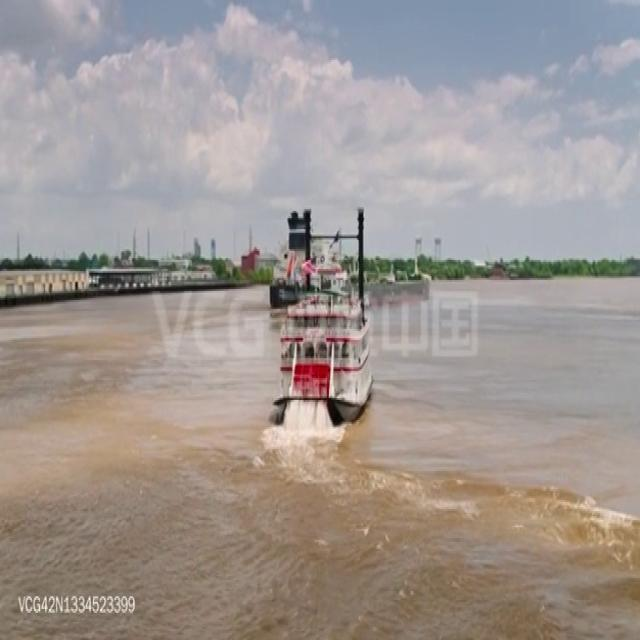cargoship: (268, 211, 429, 305)
passenger ship: (272, 244, 374, 431)
